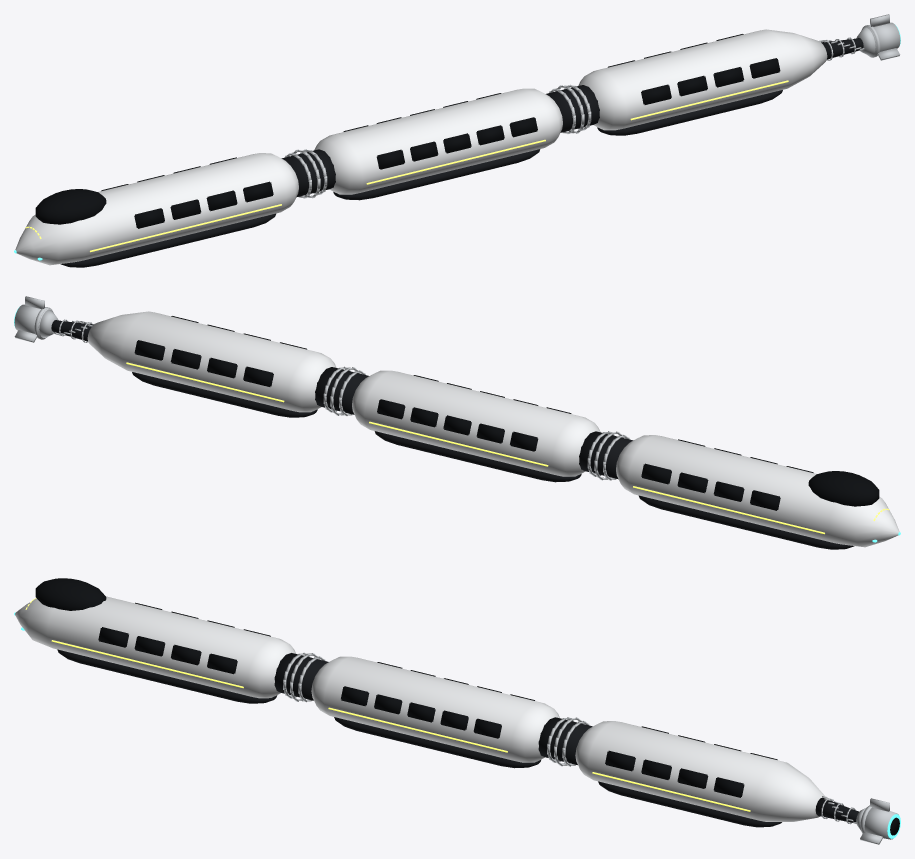
File: tren-capsula-futurista.glb
The picture shows the model from 3 angles, top to bottom: view 1: azimuth 30°, elevation 25°; view 2: azimuth 150°, elevation 25°; view 3: azimuth 330°, elevation 25°; orthographic projection.
Visible parts, largest first — view 1: Tren_CascoBlanco, Tren_VientreNegro, Tren_VidrioOscuro, Tren_MetalCromado, Tren_LuzLima; view 2: Tren_CascoBlanco, Tren_VientreNegro, Tren_VidrioOscuro, Tren_MetalCromado, Tren_LuzLima; view 3: Tren_CascoBlanco, Tren_VientreNegro, Tren_VidrioOscuro, Tren_MetalCromado, Tren_LuzLima.
Part boxes in pixels (x1,y1,x2,y2): Tren_CascoBlanco: (15, 29, 827, 265); Tren_VientreNegro: (60, 38, 863, 267); Tren_VidrioOscuro: (35, 34, 780, 228); Tren_MetalCromado: (285, 14, 900, 198); Tren_LuzLima: (25, 80, 788, 252); Tren_CascoBlanco: (87, 311, 899, 547); Tren_VientreNegro: (51, 320, 854, 549); Tren_VidrioOscuro: (134, 316, 879, 510); Tren_MetalCromado: (14, 296, 629, 480); Tren_LuzLima: (126, 362, 889, 534); Tren_CascoBlanco: (15, 596, 826, 821); Tren_VientreNegro: (57, 649, 858, 827); Tren_VidrioOscuro: (35, 578, 777, 797); Tren_MetalCromado: (283, 652, 898, 844); Tren_LuzLima: (25, 598, 750, 811).
Bounding box in the file's own units: 10.35 × 0.825 × 0.805.
